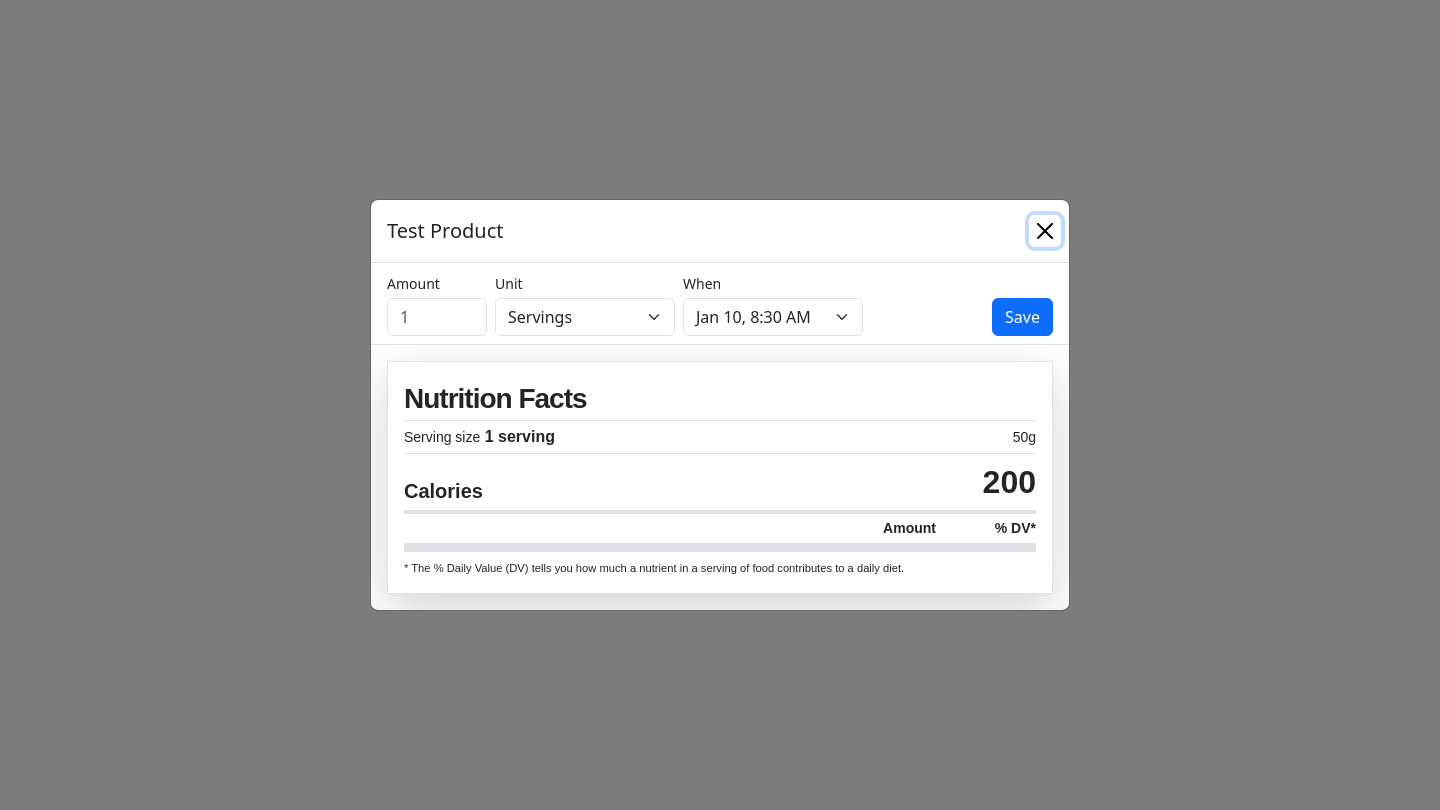
Test: LogModal › edit mode › sends group item when editing a group entry
Click the button "Save": coordinates (1023, 317) [992,298,1053,336]
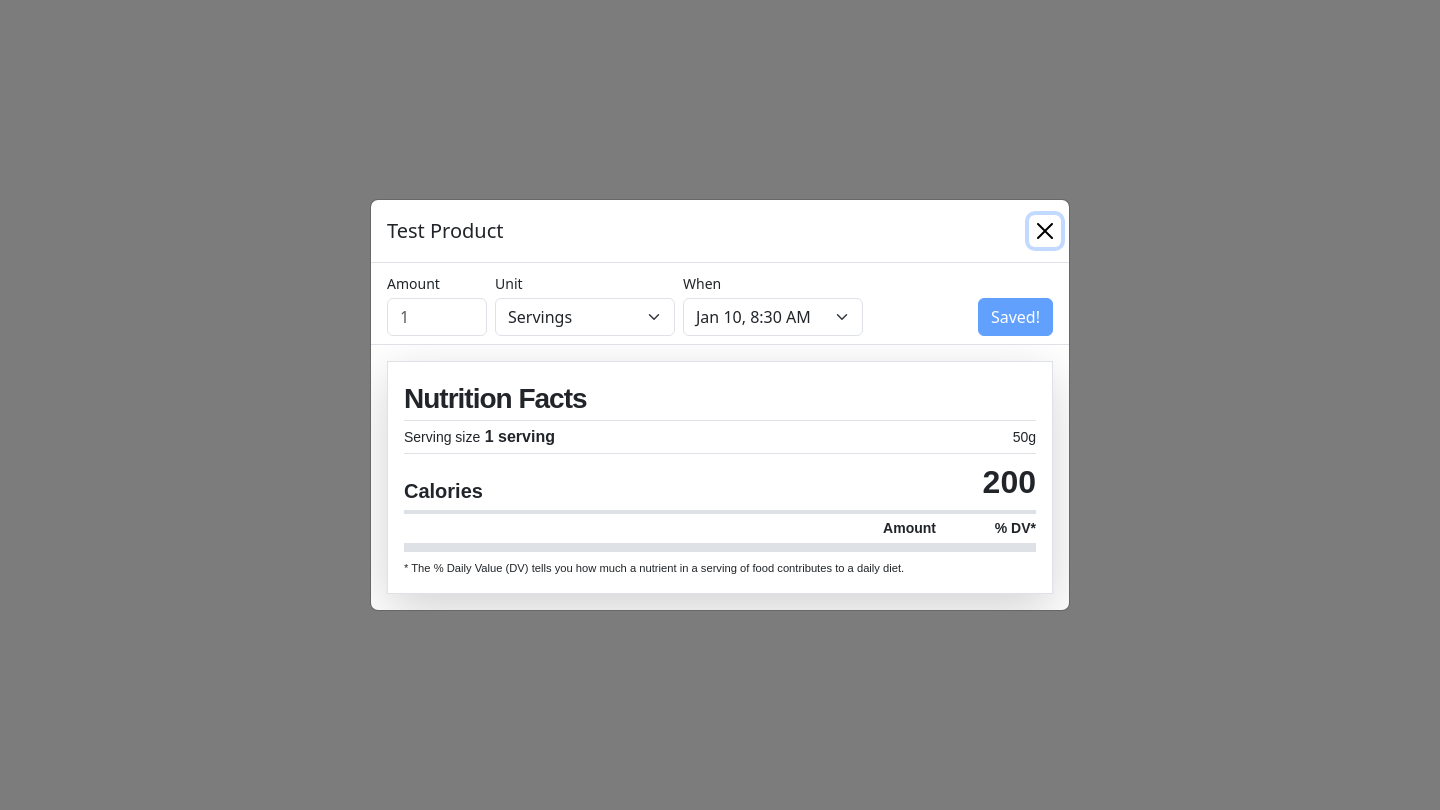
Expected: the button "Saved!" is shown, [978,298,1053,336]
